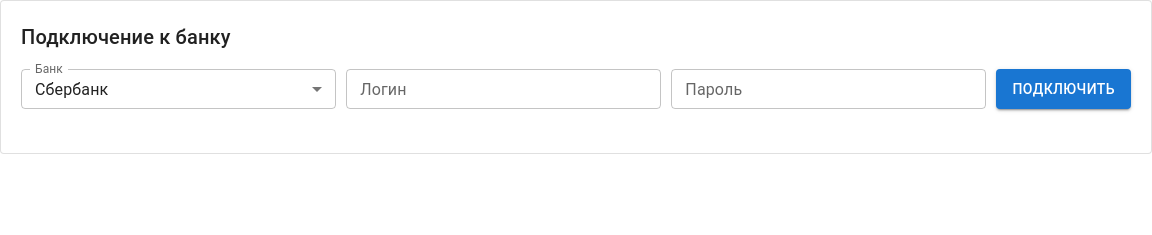
BankConnection › shows validation error for short login
Type "ab" into the field labelled "Логин" at (504, 89), box [346,69,661,109]
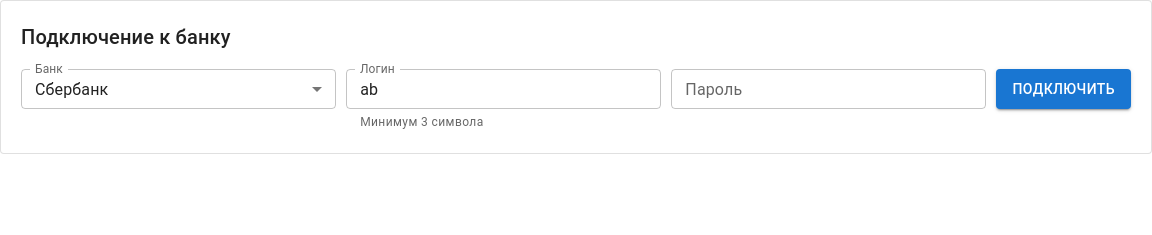
Type "123" into the password field labelled "Пароль" at (829, 89), box [671,69,986,109]
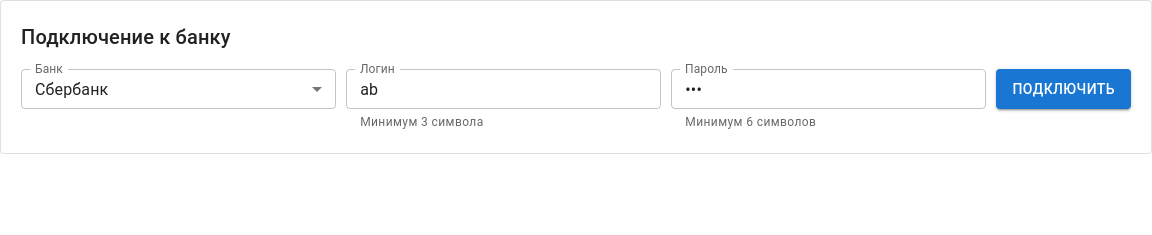
Click the button "Подключить" at (1064, 89), box [996,69,1131,109]
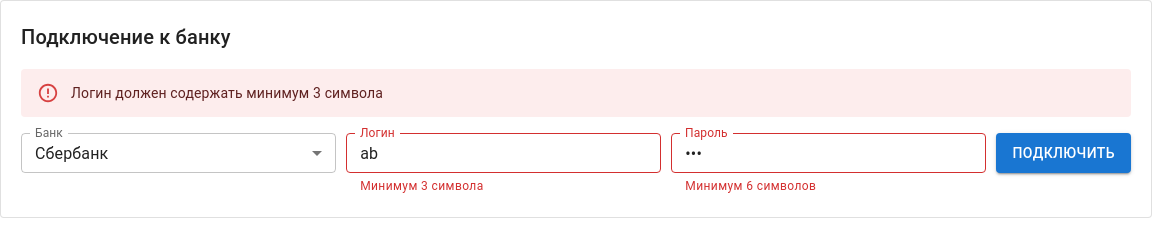
Result: the text "Логин должен содержать минимум 3 символа" is shown at [71,85,383,101]
